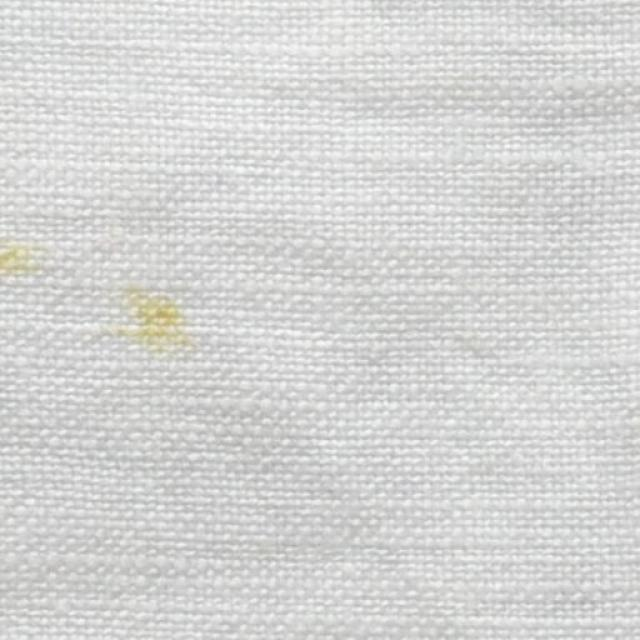Stain: (124, 296, 172, 345), (0, 241, 42, 290)
